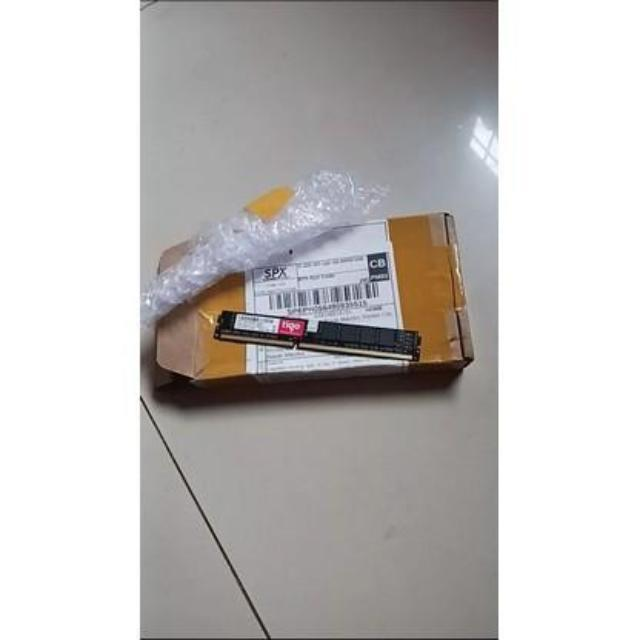RAM: (209, 309, 423, 369)
